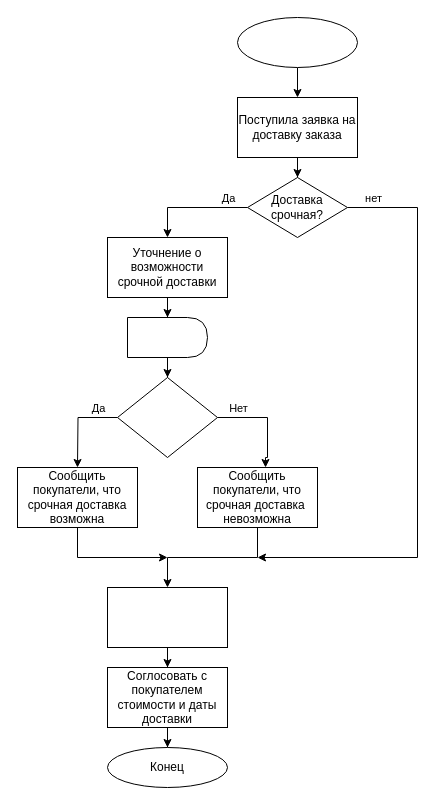
This 443x805 diagram has some shape labels left out. Each missing label, with the centre of its shape:
"15 минут" goes at pixel 167 337.
"Начало" goes at pixel 297 42.
"Определение стоимости и даты доставки" goes at pixel 167 617.
"Срочная доставка возможна?" goes at pixel 167 417.
